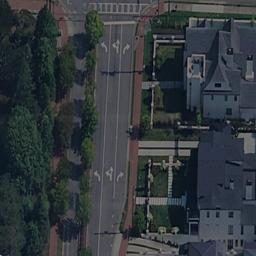Crosswalk: (81, 1, 144, 17)
Left Turn Arrow: (99, 40, 108, 56), (94, 169, 101, 184)
Right Turn Arrow: (115, 169, 125, 183), (121, 42, 130, 56)
Stop Line: (99, 19, 138, 26)
Straight, Left Turn Arrow: (111, 37, 119, 55), (105, 165, 113, 182)
White Dashed Line: (112, 63, 123, 161), (101, 61, 109, 164), (96, 190, 103, 252), (108, 198, 116, 250), (118, 26, 120, 34), (109, 24, 110, 35)
